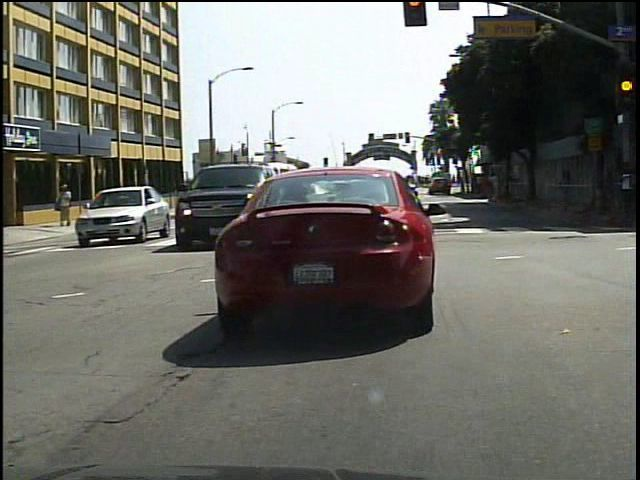person: (56, 179, 79, 229)
